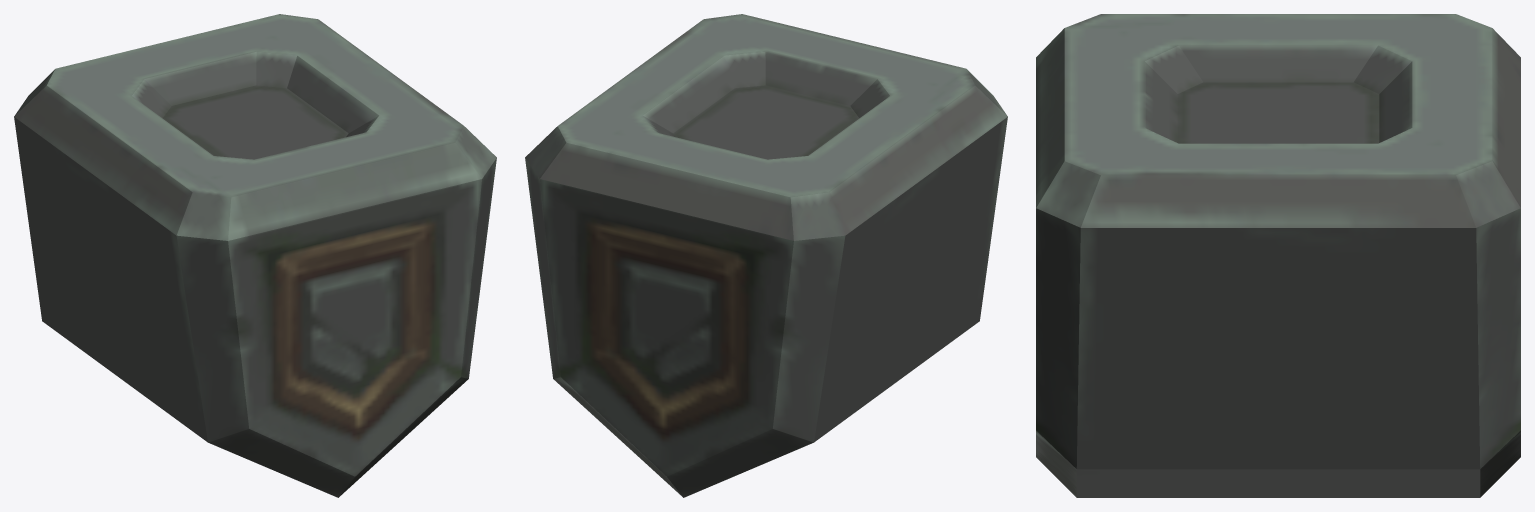
File: yw_shanlin_parapet_003.FBX
3 renders of one model, left to right at view 1: azimuth 30°, elevation 25°; view 2: azimuth 150°, elevation 25°; view 3: azimuth 270°, elevation 25°, orthographic. The views are drawn at different scales.
Parts seen in each view (by area): view 1: yw_shanlin_parapet_003; view 2: yw_shanlin_parapet_003; view 3: yw_shanlin_parapet_003.
Part boxes in pixels (box(x1,y1,x2,y2)): yw_shanlin_parapet_003: box(14, 14, 496, 497); yw_shanlin_parapet_003: box(525, 14, 1007, 497); yw_shanlin_parapet_003: box(1036, 14, 1520, 497).
Size of the model in its own units: 104 by 112 by 103.
